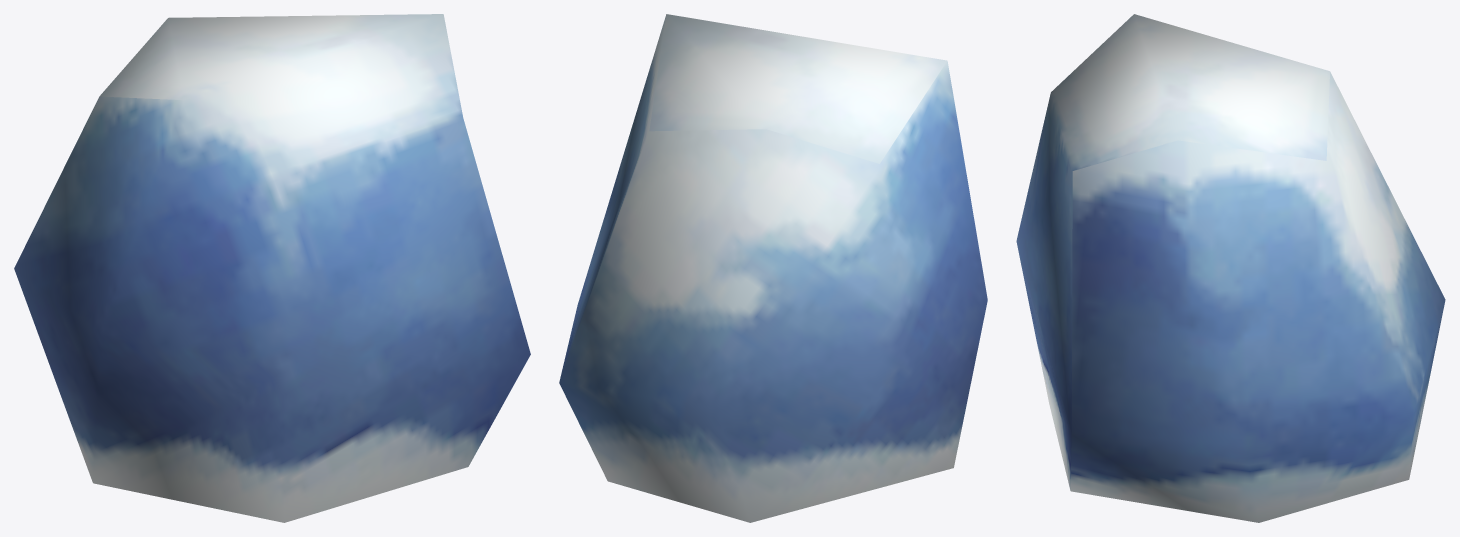
Rendered from SM_stoneB_18.fbx.
The picture shows the model from 3 angles, left to right: view 1: azimuth 30°, elevation 25°; view 2: azimuth 150°, elevation 25°; view 3: azimuth 270°, elevation 25°; orthographic projection. The views are drawn at different scales.
Parts seen in each view (by area): view 1: SM_stoneB_18; view 2: SM_stoneB_18; view 3: SM_stoneB_18.
Part boxes in pixels (<box>): SM_stoneB_18: <box>14,14,530,522</box>; SM_stoneB_18: <box>559,14,987,522</box>; SM_stoneB_18: <box>1016,14,1445,522</box>.
Bounding box in the file's own units: 1.37 × 1.3 × 1.37.
